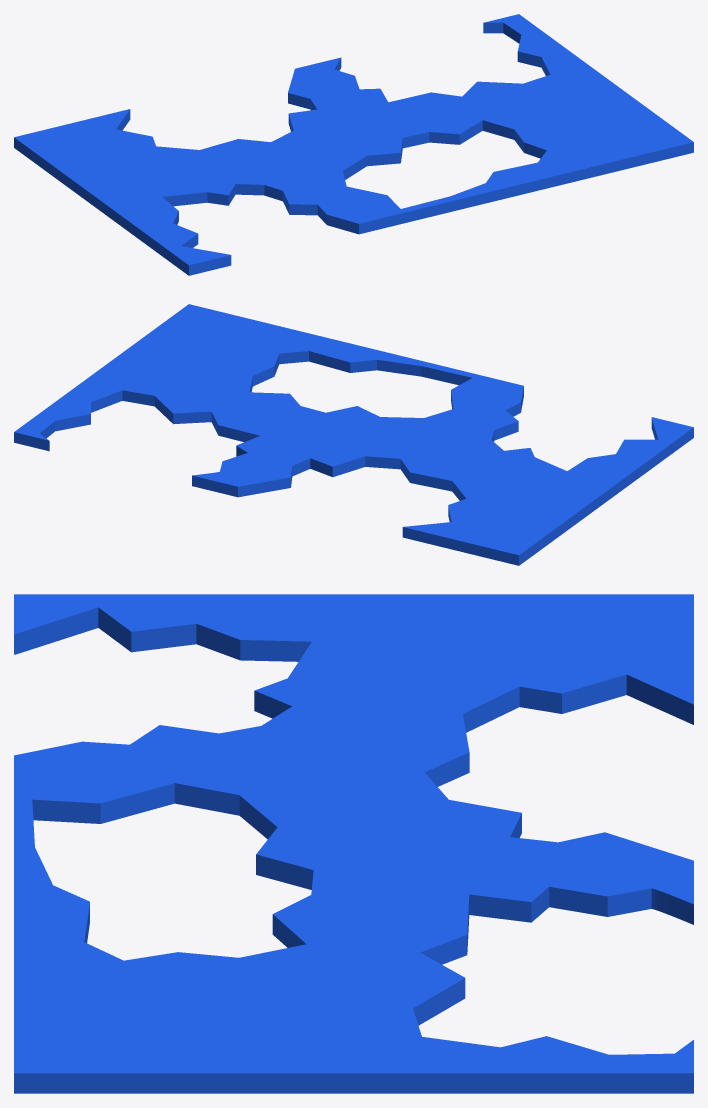
The model's file is Crack.fbx.
3 views of the same model, one above another, from view 1: azimuth 30°, elevation 25°; view 2: azimuth 150°, elevation 25°; view 3: azimuth 270°, elevation 25° (orthographic). The views are drawn at different scales.
Visible parts, largest first — view 1: Box002; view 2: Box002; view 3: Box002.
Part boxes in pixels (left/top/right/bottom): Box002: left=14, top=14, right=693, bottom=275; Box002: left=14, top=304, right=693, bottom=565; Box002: left=14, top=594, right=693, bottom=1093.
Size of the model in its own units: 394 by 7.87 by 236.
